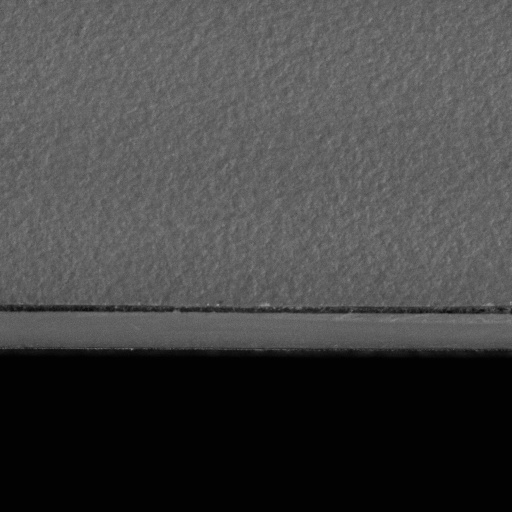jiaofeng: (5, 302, 511, 331)
